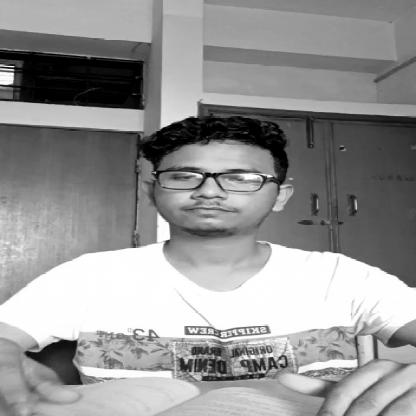Normal: (141, 106, 305, 241)
